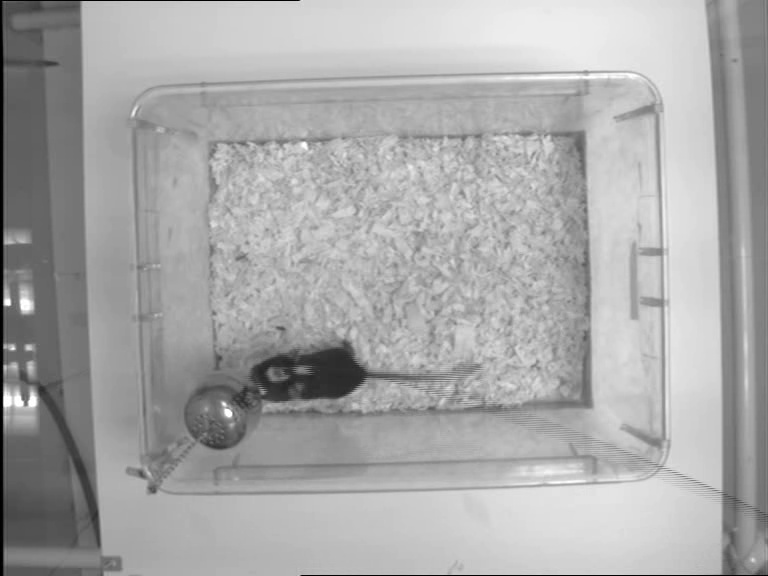mice: (248, 343, 475, 404)
